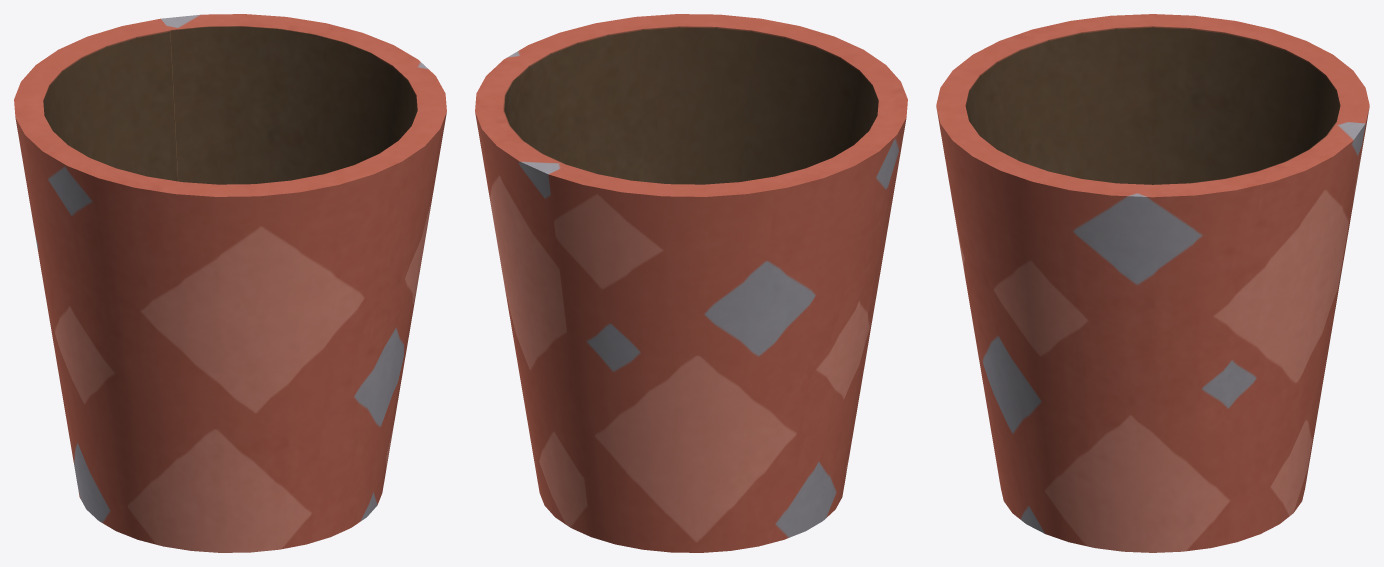
The model's file is trashcan.fbx.
The picture shows the model from 3 angles, left to right: view 1: azimuth 30°, elevation 25°; view 2: azimuth 150°, elevation 25°; view 3: azimuth 270°, elevation 25°; orthographic projection.
Parts seen in each view (by area): view 1: Trashcan; view 2: Trashcan; view 3: Trashcan.
Part boxes in pixels (x1,y1,x2,y2): Trashcan: (14, 14, 446, 552); Trashcan: (475, 14, 907, 552); Trashcan: (936, 14, 1369, 552).
Bounding box in the file's own units: 85.62 × 83.46 × 85.62.
